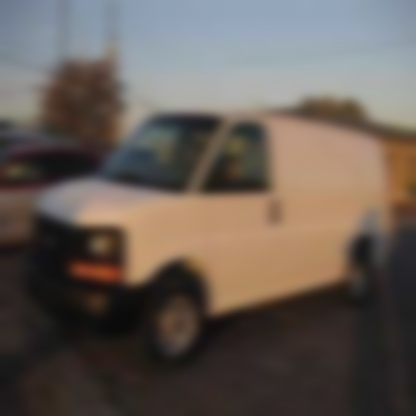Vehicle: (23, 108, 393, 378)
